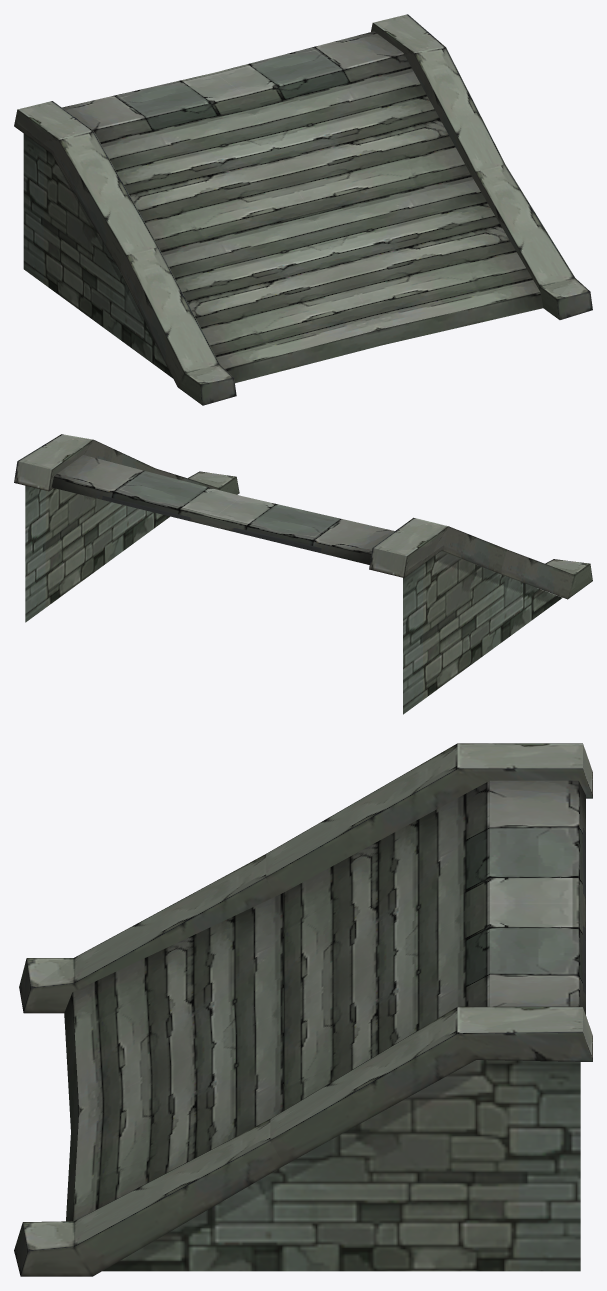
File: 2_WGJ_XiaoTaiJie_01.FBX
3 renders of one model, top to bottom at view 1: azimuth 30°, elevation 25°; view 2: azimuth 150°, elevation 25°; view 3: azimuth 270°, elevation 25°, orthographic. The views are drawn at different scales.
Parts seen in each view (by area): view 1: 2_WGJ_XiaoTaiJie_01; view 2: 2_WGJ_XiaoTaiJie_01; view 3: 2_WGJ_XiaoTaiJie_01.
Part boxes in pixels (left/top/right/bottom): 2_WGJ_XiaoTaiJie_01: left=14, top=14, right=592, bottom=405; 2_WGJ_XiaoTaiJie_01: left=14, top=434, right=592, bottom=714; 2_WGJ_XiaoTaiJie_01: left=14, top=743, right=592, bottom=1276.
Size of the model in its own units: 830 by 326 by 701.
